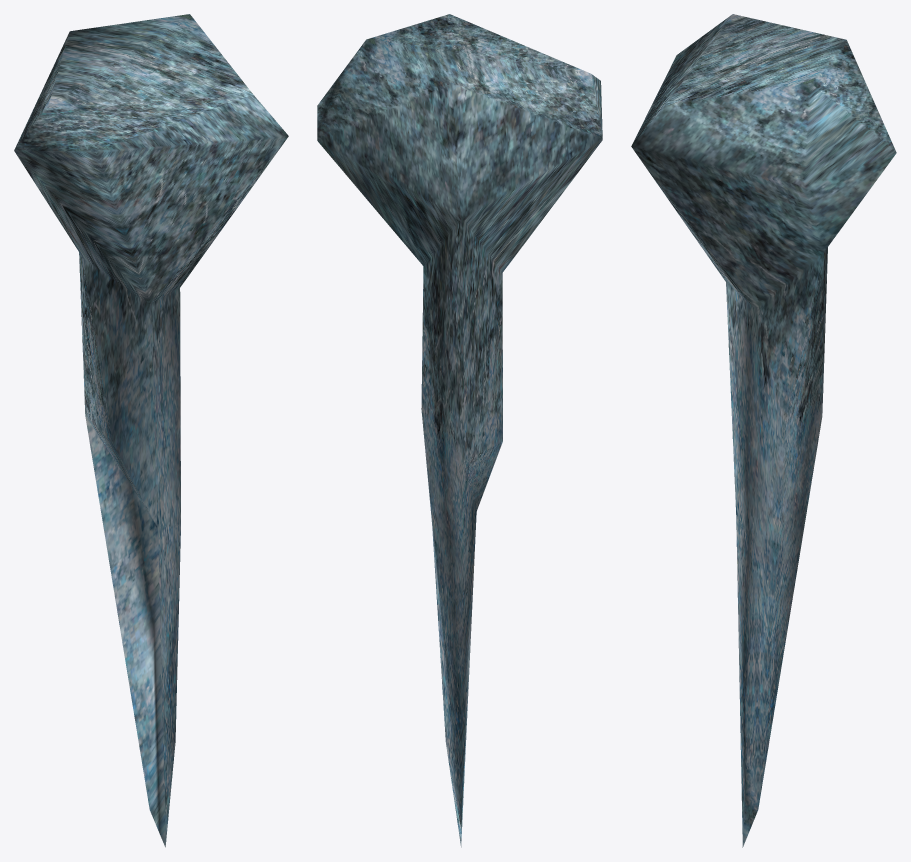
The model's file is thm_all_cave_stalagtite_ice_a2_l1.fbx.
3 renders of one model, left to right at view 1: azimuth 30°, elevation 25°; view 2: azimuth 150°, elevation 25°; view 3: azimuth 270°, elevation 25°, orthographic. The views are drawn at different scales.
Visible parts, largest first — view 1: mesh_node; view 2: mesh_node; view 3: mesh_node.
Part boxes in pixels (x1=…): mesh_node: x1=14, y1=14, x2=288, y2=847; mesh_node: x1=317, y1=14, x2=602, y2=847; mesh_node: x1=631, y1=14, x2=896, y2=847.
Size of the model in its own units: 0.6292 by 1.89 by 0.5742.
